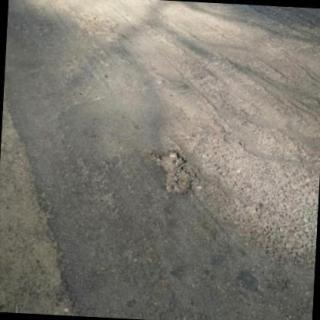pothole: (157, 150, 197, 196)
